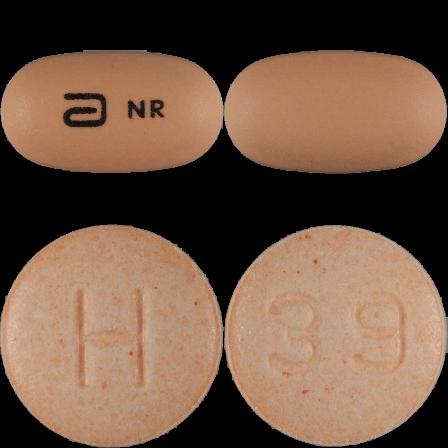61786-125: (0, 0, 224, 224)
